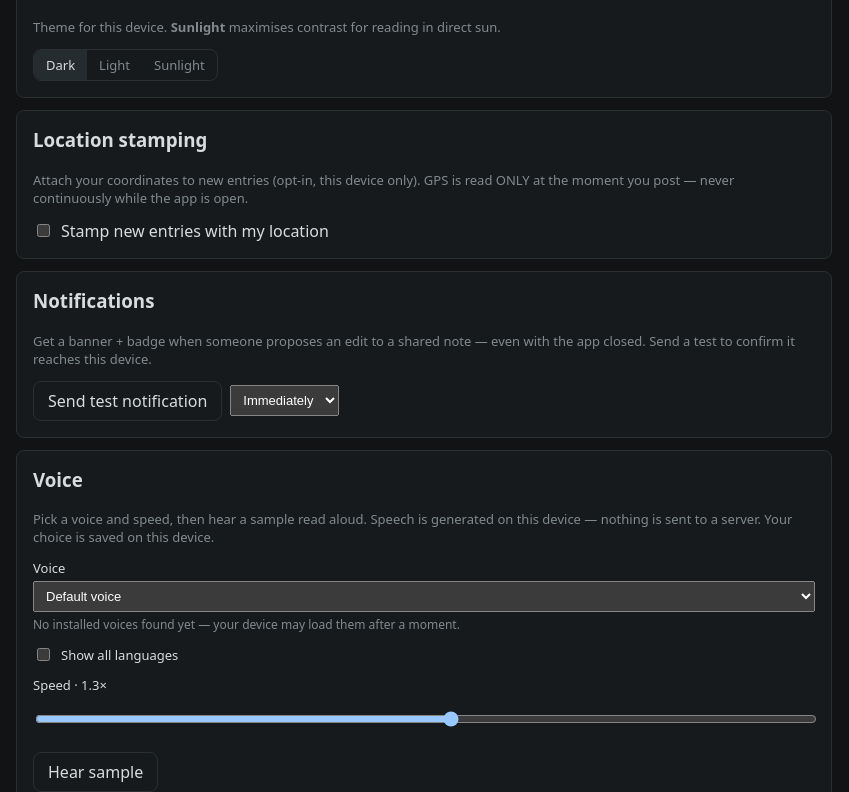
SystemPage — push test notification › reports when push isn't available on this device
(page scrolled)
Click the button "Send test notification": (128, 401) [33,381,222,421]
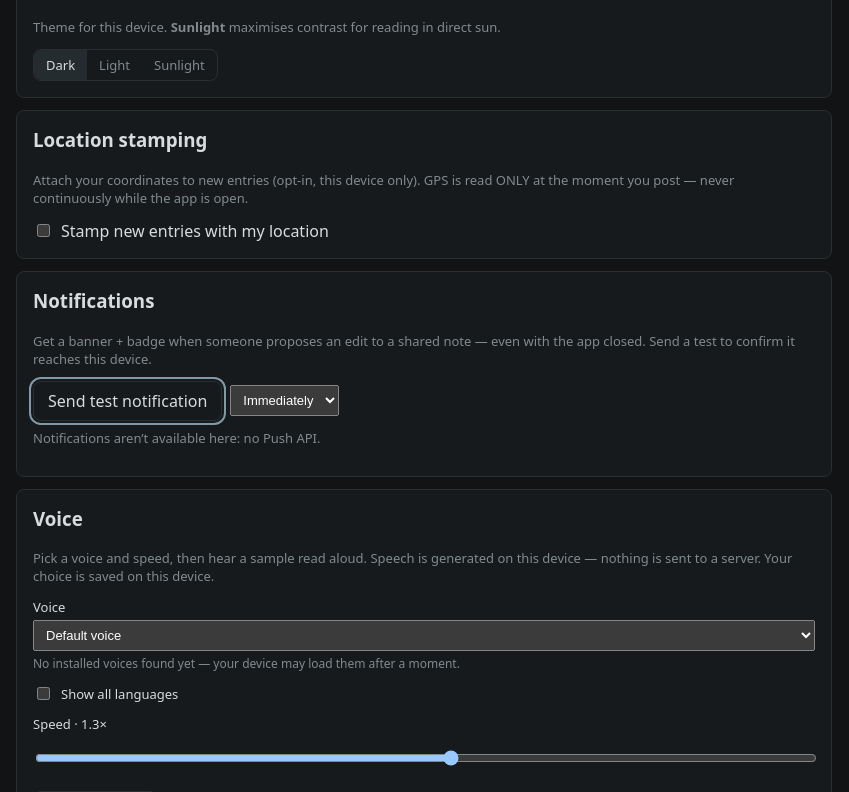
Result: the text "Notifications aren’t available here: no Push API." is shown at [33,429,320,447]
